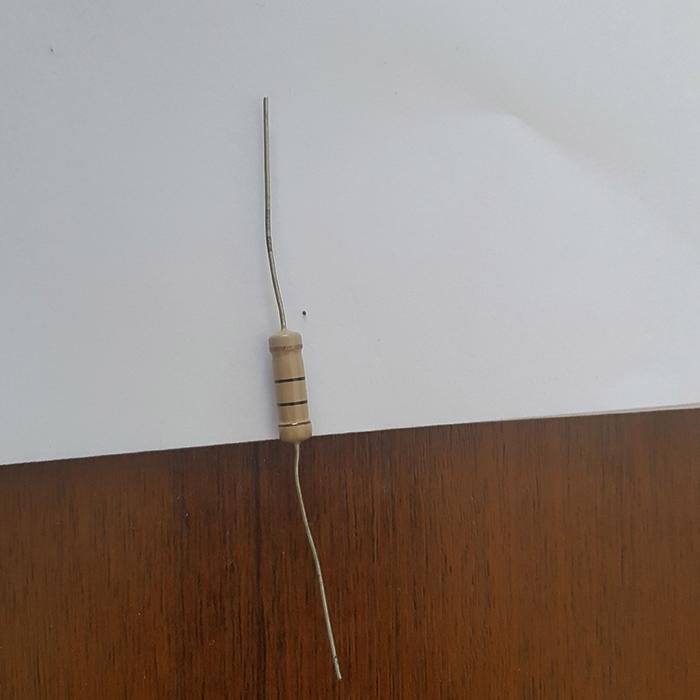resistor: (268, 327, 312, 441)
